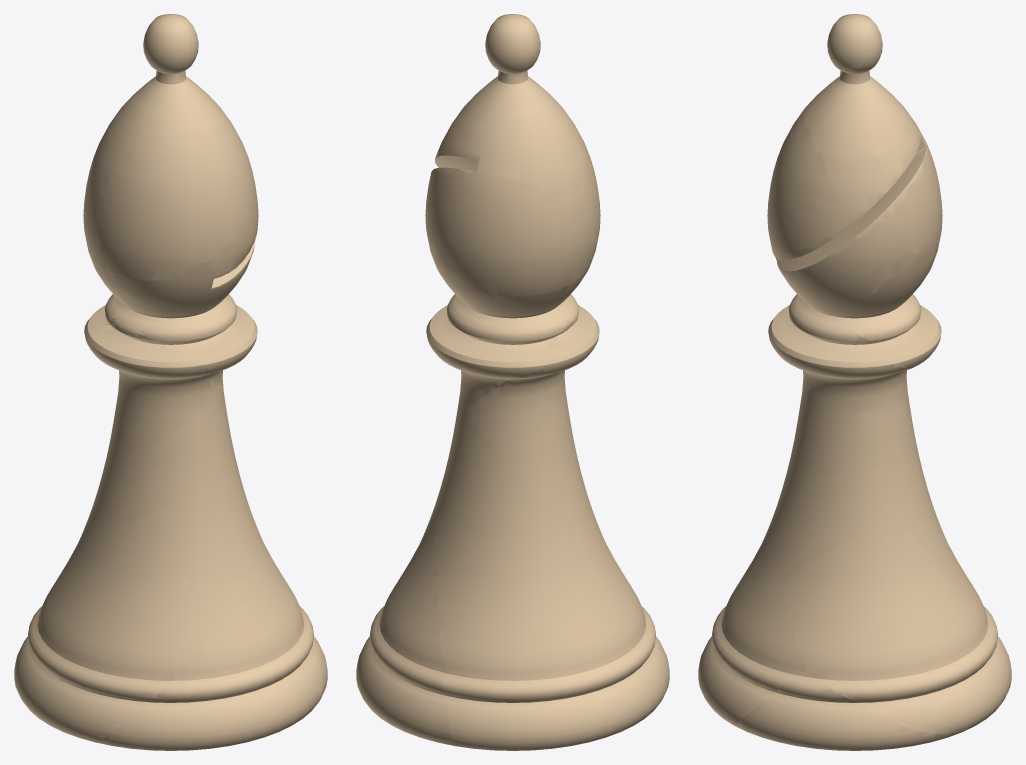
The model's file is bishop.glb.
The picture shows the model from 3 angles, left to right: view 1: azimuth 30°, elevation 25°; view 2: azimuth 150°, elevation 25°; view 3: azimuth 270°, elevation 25°; orthographic projection.
Parts seen in each view (by area): view 1: chunk-03.003, chunk-01.003, chunk-12.002, chunk-04.003, chunk-07.003, chunk-08.003, chunk-05.003, chunk-10.003, chunk-06.003, chunk-14.001, chunk-13.002, chunk-15.001 (+4 smaller); view 2: chunk-03.003, chunk-11.003, chunk-02.003, chunk-05.003, chunk-09.003, chunk-13.002, chunk-07.003, chunk-14.001, chunk-15.001, chunk-08.003, chunk-12.002, chunk-06.003; view 3: chunk-02.003, chunk-10.003, chunk-01.003, chunk-08.003, chunk-00.003, chunk-06.003, chunk-14.001, chunk-05.003, chunk-09.003, chunk-04.003, chunk-11.003, chunk-12.002 (+3 smaller).
Part boxes in pixels (box(x1,y1,x2,y2)): chunk-03.003: box(14, 502, 264, 742); chunk-01.003: box(96, 572, 322, 750); chunk-12.002: box(95, 127, 253, 280); chunk-04.003: box(111, 473, 259, 581); chunk-07.003: box(84, 323, 218, 451); chunk-08.003: box(106, 294, 257, 386); chunk-05.003: box(93, 431, 238, 528); chunk-10.003: box(112, 170, 258, 312); chunk-06.003: box(136, 384, 234, 471); chunk-14.001: box(132, 70, 235, 133); chunk-13.002: box(91, 95, 242, 199); chunk-15.001: box(143, 14, 198, 78); chunk-03.003: box(436, 510, 669, 750); chunk-11.003: box(425, 167, 593, 297); chunk-02.003: box(356, 499, 455, 744); chunk-05.003: box(436, 433, 587, 536); chunk-09.003: box(426, 223, 591, 378); chunk-13.002: box(435, 99, 584, 204); chunk-07.003: box(466, 305, 599, 453); chunk-14.001: box(450, 65, 554, 130); chunk-15.001: box(485, 14, 540, 77); chunk-08.003: box(426, 294, 578, 407); chunk-12.002: box(566, 113, 600, 256); chunk-06.003: box(452, 396, 572, 448); chunk-02.003: box(781, 531, 1011, 733); chunk-10.003: box(767, 199, 904, 316); chunk-01.003: box(698, 581, 806, 726); chunk-08.003: box(768, 294, 911, 414); chunk-00.003: box(736, 667, 966, 750); chunk-06.003: box(792, 391, 913, 476); chunk-14.001: box(806, 66, 904, 162); chunk-05.003: box(789, 428, 931, 531); chunk-09.003: box(842, 250, 941, 368); chunk-04.003: box(761, 464, 878, 570); chunk-11.003: box(872, 139, 942, 257); chunk-12.002: box(767, 102, 840, 222).
Size of the model in its own units: 0.5766 by 1.36 by 0.5766.
